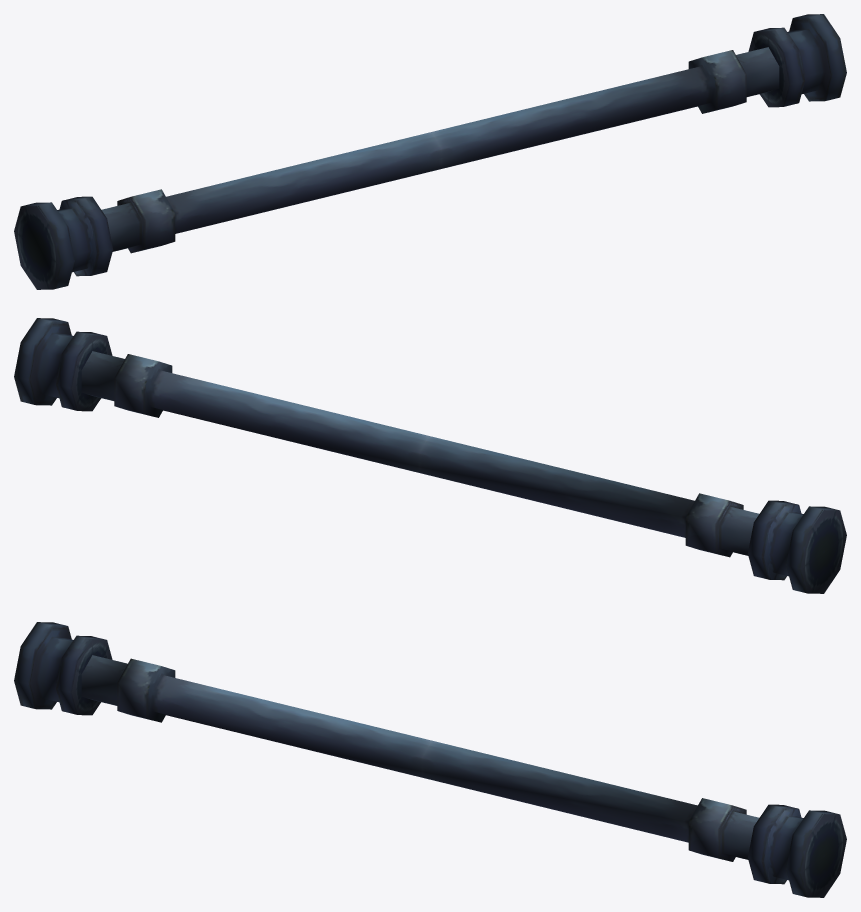
File: mesh_Pt_sewb_props_23.FBX
3 renders of one model, top to bottom at view 1: azimuth 30°, elevation 25°; view 2: azimuth 150°, elevation 25°; view 3: azimuth 330°, elevation 25°, orthographic.
Parts seen in each view (by area): view 1: polySurface200; view 2: polySurface200; view 3: polySurface200.
Boxes of the visible parts, <box> form: polySurface200: <box>14,14,846,289</box>; polySurface200: <box>14,318,846,593</box>; polySurface200: <box>14,622,846,897</box>.
Bounding box in the file's own units: 0.2043 × 0.0208 × 0.0206.
